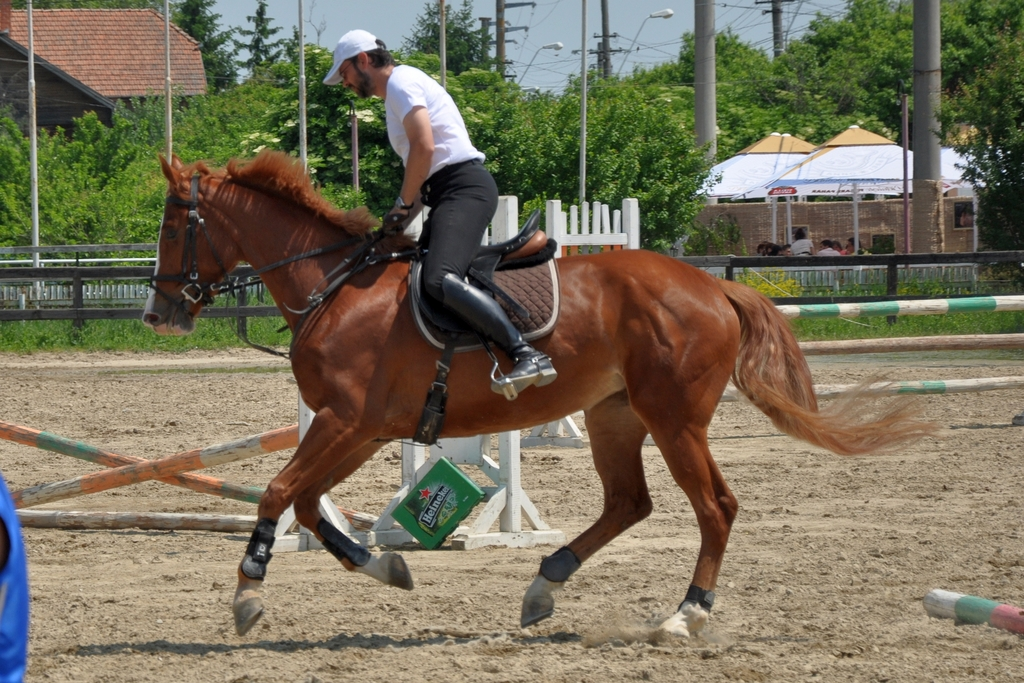horse: (142, 148, 940, 638)
